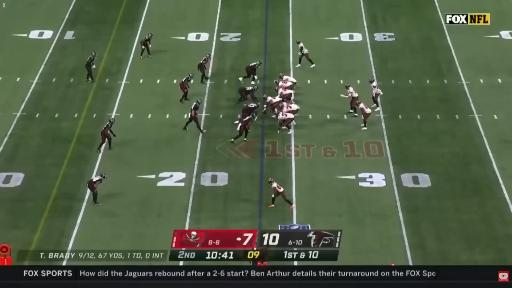Helmet: (356, 100, 362, 107), (278, 102, 284, 109), (345, 82, 351, 88), (206, 52, 212, 58), (90, 52, 96, 58), (274, 79, 281, 84), (109, 118, 115, 123), (100, 174, 107, 178), (369, 78, 374, 83), (296, 39, 301, 44), (253, 86, 258, 91), (256, 102, 261, 107), (269, 179, 275, 183), (257, 61, 261, 67), (251, 115, 255, 121), (190, 74, 194, 80), (279, 73, 283, 78), (197, 99, 202, 103), (276, 87, 280, 91), (263, 95, 267, 99), (275, 112, 279, 116), (148, 34, 153, 37)
Jersey: (238, 116, 253, 131), (242, 104, 257, 117), (88, 176, 103, 189), (371, 81, 382, 96), (278, 88, 294, 97), (189, 103, 199, 117), (266, 96, 281, 105), (359, 103, 371, 114), (283, 104, 299, 112), (103, 122, 113, 134), (272, 183, 284, 193), (240, 87, 254, 95), (278, 113, 294, 120), (347, 87, 358, 97), (278, 81, 293, 88), (299, 43, 308, 54), (141, 36, 151, 45), (87, 55, 95, 66), (282, 76, 296, 82), (182, 76, 191, 85), (200, 57, 209, 64), (249, 63, 258, 69)
Player: (268, 178, 294, 209), (183, 100, 205, 133), (97, 118, 116, 152), (231, 115, 254, 143), (87, 173, 106, 205), (341, 83, 358, 116), (239, 61, 262, 84), (296, 40, 315, 67), (235, 103, 259, 123), (356, 101, 371, 129), (370, 78, 382, 111), (263, 95, 282, 115), (237, 86, 258, 104), (180, 74, 193, 102), (198, 54, 210, 83), (278, 112, 294, 133), (140, 34, 153, 58), (86, 52, 96, 82), (275, 87, 294, 102), (281, 103, 299, 115), (275, 80, 294, 89), (279, 74, 296, 84)
